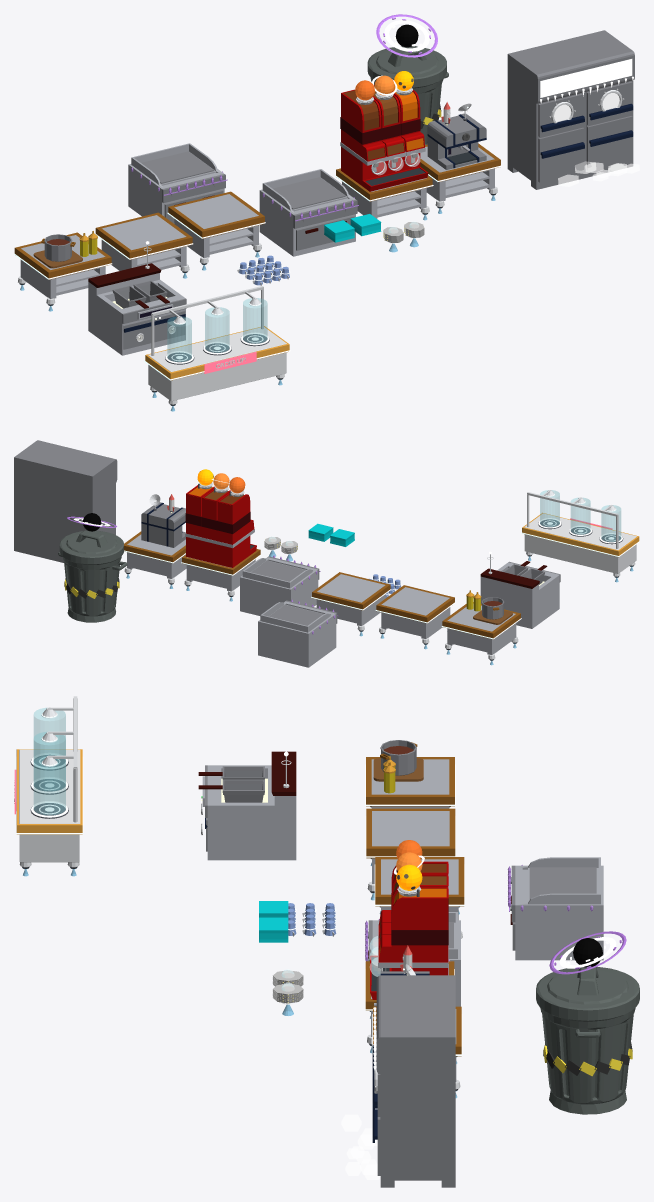
Rendered from Furniture_Space.fbx.
3 renders of one model, top to bottom at view 1: azimuth 30°, elevation 25°; view 2: azimuth 150°, elevation 25°; view 3: azimuth 270°, elevation 25°, orthographic. The views are drawn at different scales.
Parts seen in each view (by area): view 1: fridge, soda_machine, grill, fryer, OrderUp_Teleporter, grill.001, OrderUp_Pads, base_top, base_top.002, dustbin, base_top.003, Cube (+11 smaller); view 2: fridge, soda_machine, dustbin, grill.001, OrderUp_Teleporter, grill, fryer, base_top.002, base_top, OrderUp_Pads, base_top.003, base_top.001 (+7 smaller); view 3: fridge, dustbin, grill.001, fryer, soda_machine, OrderUp_Teleporter, OrderUp_Pads, base_top.002, base_top.003, dustbin_BlackHole, base_top, fridge_FrostVapor (+8 smaller).
Boxes of the visible parts, x1,y1,x2,y2 form: fridge: (507, 30, 634, 189); soda_machine: (340, 83, 428, 191); grill: (259, 169, 357, 256); fryer: (88, 263, 186, 355); OrderUp_Teleporter: (145, 326, 289, 401); grill.001: (128, 143, 225, 223); OrderUp_Pads: (151, 286, 269, 364); base_top: (168, 191, 264, 257); base_top.002: (95, 212, 192, 270); dustbin: (367, 46, 448, 144); base_top.003: (14, 232, 111, 298); Cube: (427, 113, 486, 169); fridge: (14, 440, 117, 562); soda_machine: (185, 485, 256, 567); dustbin: (58, 530, 127, 622); grill.001: (258, 600, 337, 667); OrderUp_Teleporter: (522, 513, 639, 573); grill: (240, 556, 319, 615); fryer: (480, 561, 560, 628); base_top.002: (376, 585, 454, 638); base_top: (312, 572, 390, 625); OrderUp_Pads: (527, 490, 623, 548); base_top.003: (442, 602, 520, 654); base_top.001: (124, 531, 186, 578); fridge: (372, 975, 455, 1187); dustbin: (536, 966, 639, 1114); grill.001: (510, 857, 603, 960); fryer: (202, 751, 296, 860); soda_machine: (370, 861, 448, 999); OrderUp_Teleporter: (16, 749, 82, 862); OrderUp_Pads: (30, 696, 77, 822); base_top.002: (366, 808, 455, 883); base_top.003: (366, 757, 454, 808); dustbin_BlackHole: (543, 931, 632, 1076); base_top: (375, 857, 464, 920); fridge_FrostVapor: (341, 1114, 380, 1179).
Size of the model in its own units: 15.16 by 3.47 by 10.44.
